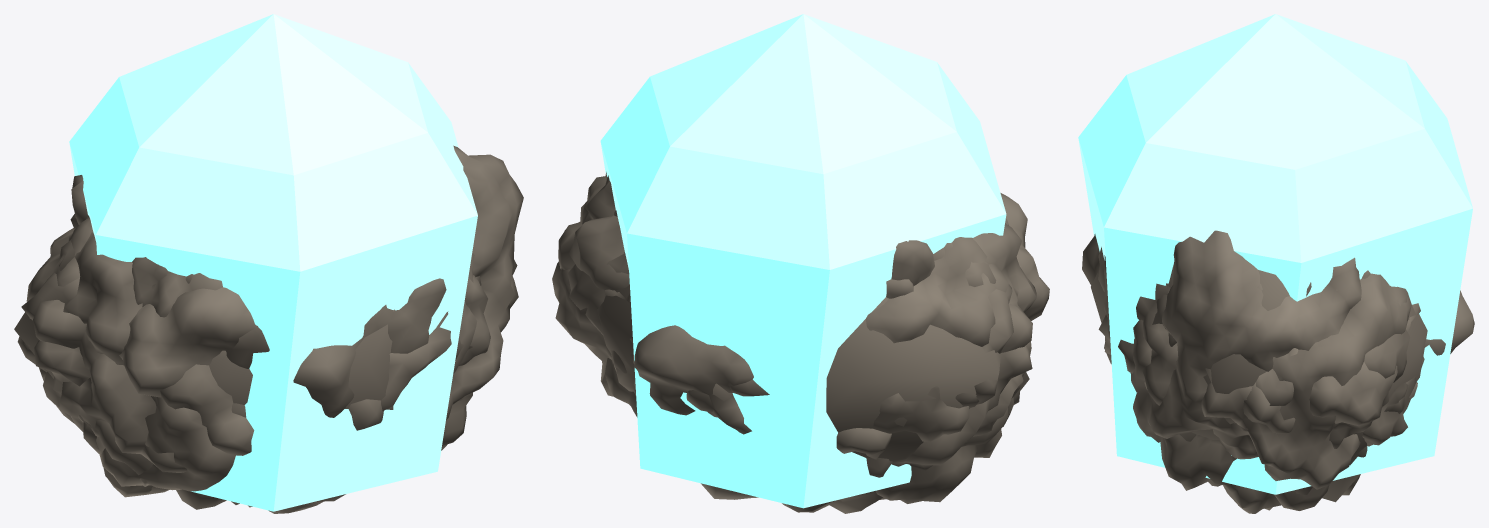
The model's file is mining.glb.
3 renders of one model, left to right at view 1: azimuth 30°, elevation 25°; view 2: azimuth 150°, elevation 25°; view 3: azimuth 270°, elevation 25°, orthographic. The views are drawn at different scales.
Visible parts, largest first — view 1: mineral_crystal, asteroid_1, asteroid_3, asteroid_2, asteroid_0, rock_fragment; view 2: mineral_crystal, asteroid_1, rock_fragment, asteroid_2, asteroid_0, asteroid_3; view 3: mineral_crystal, asteroid_1, asteroid_2, asteroid_3, asteroid_0, rock_fragment.
Part boxes in pixels (x1,y1,x2,y2): mineral_crystal: [69, 14, 477, 511]; asteroid_1: [26, 145, 523, 509]; asteroid_3: [33, 213, 490, 472]; asteroid_2: [17, 175, 518, 504]; asteroid_0: [34, 215, 481, 513]; rock_fragment: [14, 259, 517, 409]; mineral_crystal: [600, 14, 1006, 508]; asteroid_1: [552, 175, 1049, 441]; rock_fragment: [597, 285, 1000, 462]; asteroid_2: [558, 215, 1013, 513]; asteroid_0: [605, 172, 1036, 512]; asteroid_3: [567, 210, 1032, 459]; mineral_crystal: [1078, 14, 1472, 494]; asteroid_1: [1082, 230, 1474, 510]; asteroid_2: [1104, 273, 1417, 495]; asteroid_3: [1098, 270, 1410, 446]; asteroid_0: [1160, 282, 1424, 513]; rock_fragment: [1091, 259, 1427, 502].
Bounding box in the file's own units: 1.97 × 2.03 × 1.51.
